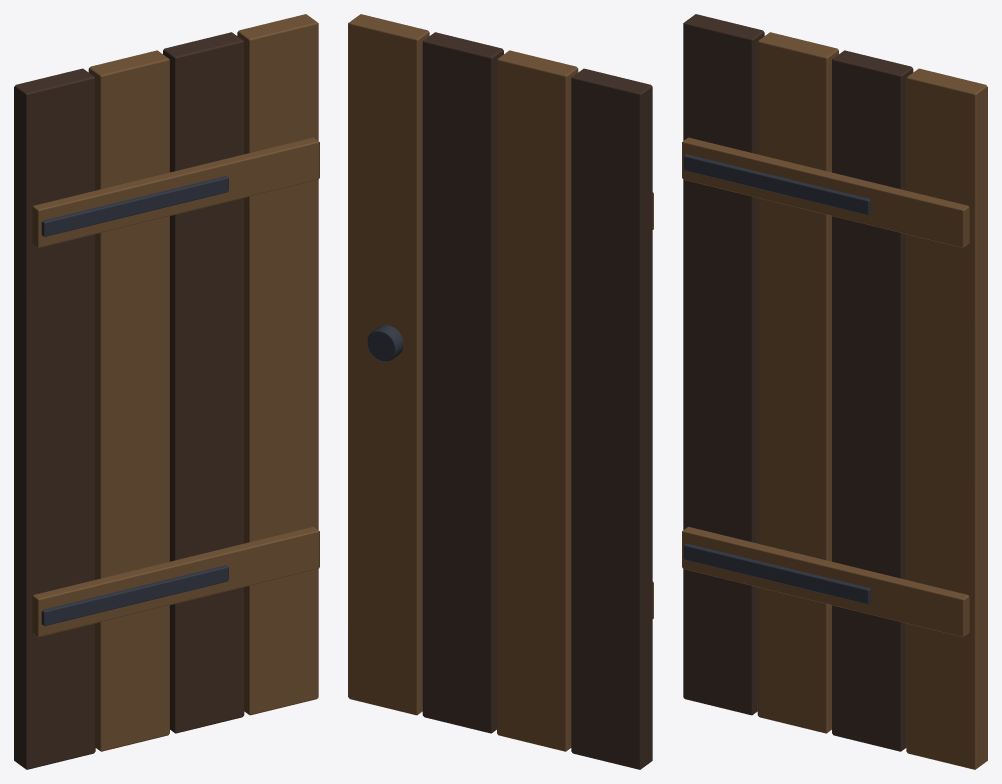
File: village-door-leaf.5c5209fc.glb
3 renders of one model, left to right at view 1: azimuth 30°, elevation 25°; view 2: azimuth 150°, elevation 25°; view 3: azimuth 330°, elevation 25°, orthographic.
Visible parts, largest first — view 1: body; view 2: body; view 3: body.
Boxes of the visible parts, <box> form: body: <box>14,14,319,769</box>; body: <box>348,14,653,769</box>; body: <box>682,14,987,769</box>.
Bounding box in the file's own units: 0.79 × 1.74 × 0.14.
